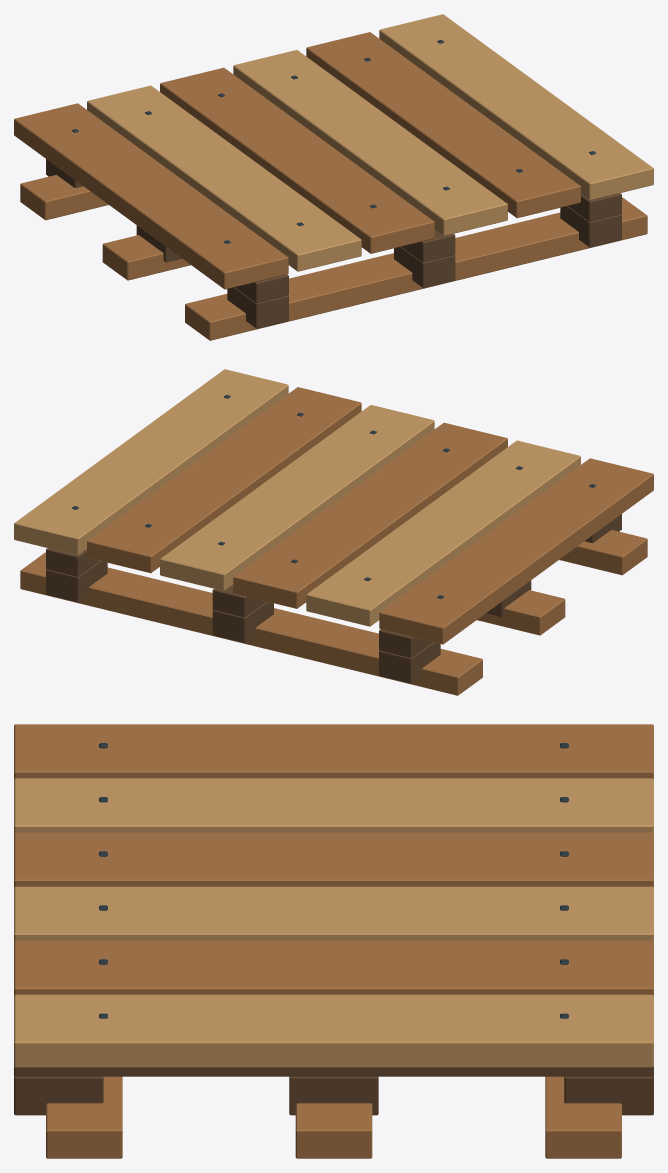
The model's file is b14_empty_wood_shipping_pallet.glb.
3 views of the same model, one above another, from view 1: azimuth 30°, elevation 25°; view 2: azimuth 150°, elevation 25°; view 3: azimuth 270°, elevation 25° (orthographic). The views are drawn at different scales.
Parts seen in each view (by area): view 1: b14_empty_wood_shipping_pallet; view 2: b14_empty_wood_shipping_pallet; view 3: b14_empty_wood_shipping_pallet.
Boxes of the visible parts, x1,y1,x2,y2 form: b14_empty_wood_shipping_pallet: (14,14,653,340); b14_empty_wood_shipping_pallet: (14,369,653,695); b14_empty_wood_shipping_pallet: (14,724,653,1158).
Bounding box in the file's own units: 1.2 × 0.202 × 1.
